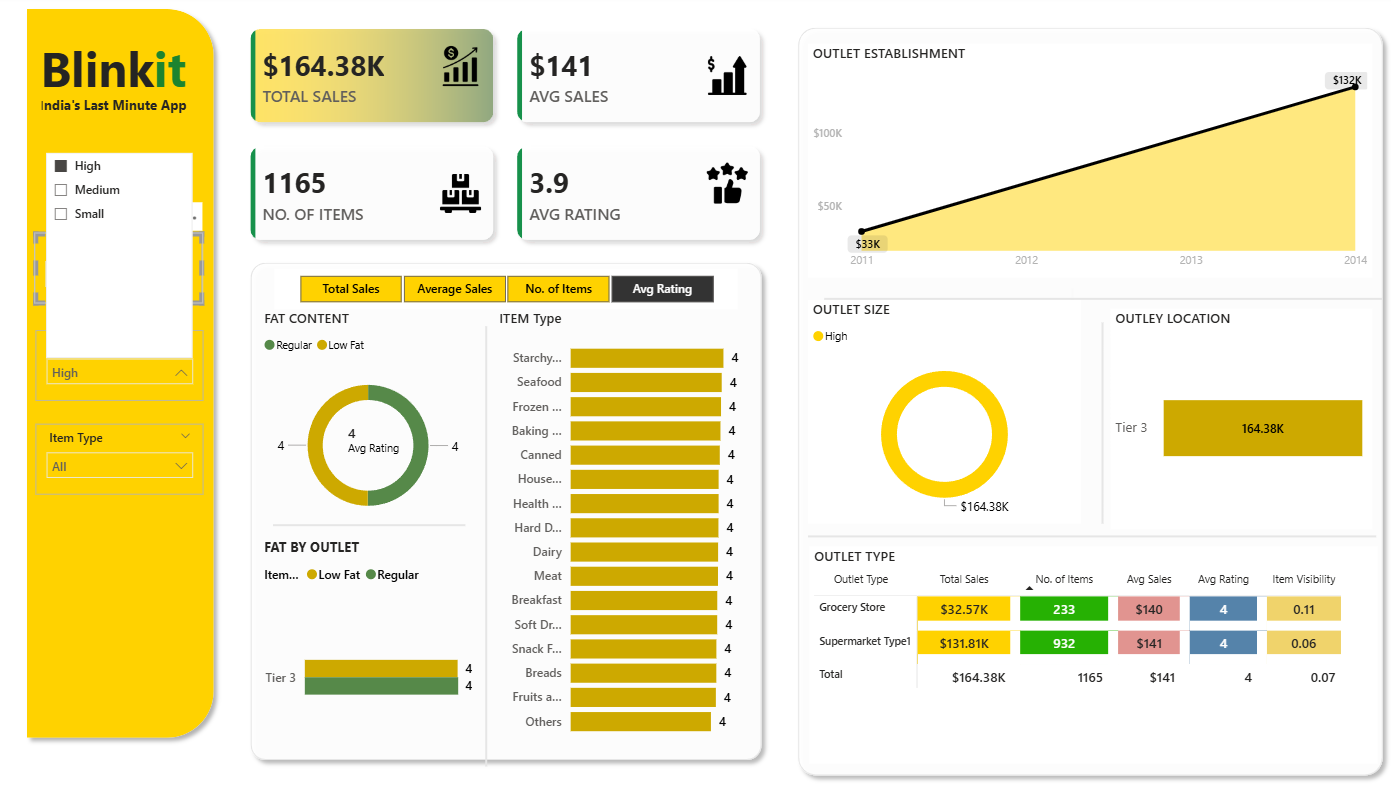

This screenshot's page, from the dashboard's own definition file:
{"tool":"powerbi","page":{"name":"Page 1","canvas":[1400,800],"ordinal":0},"visuals":[{"type":"shape","box":[19.5,0,205.6,750.4],"z":0},{"type":"textbox","box":[37.5,30,169.6,78],"z":1000},{"type":"textbox","box":[37.5,91.6,169.6,30],"z":2000},{"type":"cardVisual","fields":{"Data":["BlinkIT Grocery Data.Total Sales","BlinkIT Grocery Data.Average Sales","BlinkIT Grocery Data.No. of Items","BlinkIT Grocery Data.Avg Rating"]},"box":[225.1,0,570.3,270.2],"z":3000},{"type":"shape","box":[244.6,255.1,531.3,517.8],"z":4000},{"type":"donutChart","title":"FAT CONTENT","fields":{"Y":["BlinkIT Grocery Data.Total Sales"],"Category":["BlinkIT Grocery Data.Item Fat Content"]},"box":[262.7,310.7,219.1,229.6],"z":5000},{"type":"slicer","fields":{"Values":["Metrics.Metrics"]},"box":[277.7,270.2,465.3,40.5],"z":6000},{"type":"cardVisual","fields":{"Data":["BlinkIT Grocery Data.Total Sales"]},"box":[322.7,400.7,120.1,81],"z":7000},{"type":"clusteredBarChart","title":"FAT BY OUTLET","fields":{"Y":["BlinkIT Grocery Data.Total Sales"],"Category":["BlinkIT Grocery Data.Outlet Location Type"],"Series":["BlinkIT Grocery Data.Item Fat Content"]},"box":[262.7,540.3,219.1,229.6],"z":8000},{"type":"shape","box":[276,515.1,193.3,25.4],"z":9000},{"type":"shape","box":[1072.1,290,16.5,225.1],"z":10000},{"type":"barChart","title":"ITEM Type","fields":{"Y":["BlinkIT Grocery Data.Total Sales"],"Category":["BlinkIT Grocery Data.Item Type"]},"box":[498.3,310.7,255.1,439.8],"z":11000},{"type":"shape","box":[794.9,19.1,605.4,769.4],"z":12000},{"type":"lineChart","title":"OUTLET ESTABLISHMENT","fields":{"Y":["BlinkIT Grocery Data.Total Sales"],"Category":["BlinkIT Grocery Data.Outlet Establishment Year"]},"box":[814,44.5,567.2,235.3],"z":13000},{"type":"shape","box":[814,527.8,571,22.9],"z":14000},{"type":"donutChart","title":"OUTLET SIZE","fields":{"Y":["BlinkIT Grocery Data.Total Sales"],"Category":["BlinkIT Grocery Data.Outlet Size"]},"box":[814,301.4,274.7,225.1],"z":15000},{"type":"shape","box":[1100.1,324.3,19.1,202.2],"z":16000},{"type":"shape","box":[482,328.1,16.5,442.6],"z":17000},{"type":"funnel","title":"OUTLEY LOCATION","fields":{"Y":["Sum(BlinkIT Grocery Data.Sales)"],"Category":["BlinkIT Grocery Data.Outlet Location Type"]},"box":[1117.9,310.3,263.3,221.3],"z":18000},{"type":"shape","box":[830.3,288.5,560.9,22.9],"z":19000},{"type":"pivotTable","title":"OUTLET TYPE","fields":{"Values":["BlinkIT Grocery Data.Total Sales","BlinkIT Grocery Data.No. of Items","BlinkIT Grocery Data.Average Sales","BlinkIT Grocery Data.Avg Rating","Avg(BlinkIT Grocery Data.Item Visibility)"],"Rows":["BlinkIT Grocery Data.Outlet Type"]},"box":[815.2,549.4,571,218.8],"z":20000},{"type":"slicer","fields":{"Values":["BlinkIT Grocery Data.Outlet Location Type"]},"box":[36.9,234,169.2,71.2],"z":21000},{"type":"slicer","fields":{"Values":["BlinkIT Grocery Data.Outlet Size"]},"box":[38.2,331.9,169.2,71.2],"z":22000},{"type":"slicer","fields":{"Values":["BlinkIT Grocery Data.Item Type"]},"box":[38.2,426.1,169.2,71.2],"z":23000},{"type":"textbox","box":[68.7,199.7,106.8,34.3],"z":24000}]}

Visuals, with their boxes in screenshot pixels (x1, y1, x2, y2), scaled from the page's 1400x800 canvas onto the 1391x796 screenshot:
shape: <box>19,0,224,747</box>
textbox: <box>37,30,206,107</box>
textbox: <box>37,91,206,121</box>
cardVisual - BlinkIT Grocery Data.Total Sales x BlinkIT Grocery Data.Average Sales: <box>224,0,790,269</box>
shape: <box>243,254,771,769</box>
"FAT CONTENT" donutChart: <box>261,309,479,538</box>
slicer - Metrics.Metrics: <box>276,269,738,309</box>
cardVisual - BlinkIT Grocery Data.Total Sales: <box>321,399,440,479</box>
"FAT BY OUTLET" clusteredBarChart: <box>261,538,479,766</box>
shape: <box>274,513,466,538</box>
shape: <box>1065,289,1082,513</box>
"ITEM Type" barChart: <box>495,309,749,747</box>
shape: <box>790,19,1390,785</box>
"OUTLET ESTABLISHMENT" lineChart: <box>809,44,1372,278</box>
shape: <box>809,525,1376,548</box>
"OUTLET SIZE" donutChart: <box>809,300,1082,524</box>
shape: <box>1093,323,1112,524</box>
shape: <box>479,326,495,767</box>
"OUTLEY LOCATION" funnel: <box>1111,309,1372,529</box>
shape: <box>825,287,1382,310</box>
"OUTLET TYPE" pivotTable: <box>810,547,1377,764</box>
slicer - BlinkIT Grocery Data.Outlet Location Type: <box>37,233,205,304</box>
slicer - BlinkIT Grocery Data.Outlet Size: <box>38,330,206,401</box>
slicer - BlinkIT Grocery Data.Item Type: <box>38,424,206,495</box>
textbox: <box>68,199,174,233</box>
